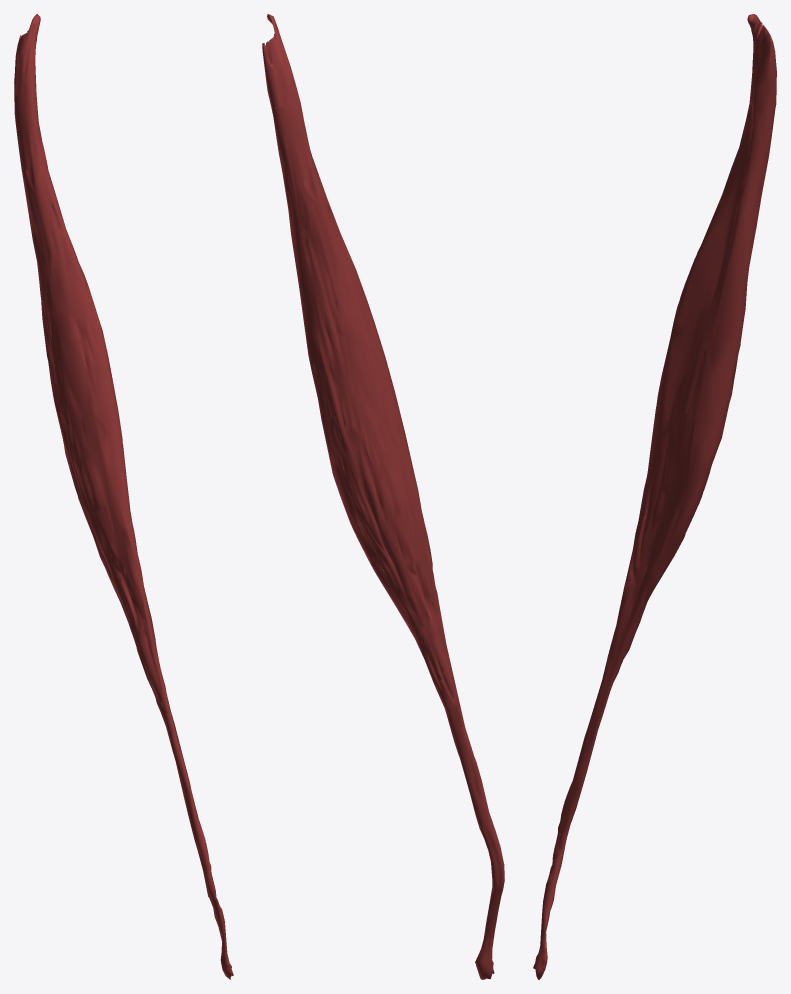
Rendered from extensor-carpi-radialis-brevis-r.glb.
3 renders of one model, left to right at view 1: azimuth 90°, elevation 25°; view 2: azimuth 150°, elevation 25°; view 3: azimuth 270°, elevation 25°, orthographic. The views are drawn at different scales.
Visible parts, largest first — view 1: Extensor carpi radialis brevis.r; view 2: Extensor carpi radialis brevis.r; view 3: Extensor carpi radialis brevis.r.
Part boxes in pixels (x1,y1,x2,y2): Extensor carpi radialis brevis.r: (14,14,233,979); Extensor carpi radialis brevis.r: (262,14,504,979); Extensor carpi radialis brevis.r: (533,14,776,979).
Bounding box in the file's own units: 0.0458 × 0.3127 × 0.0679.
